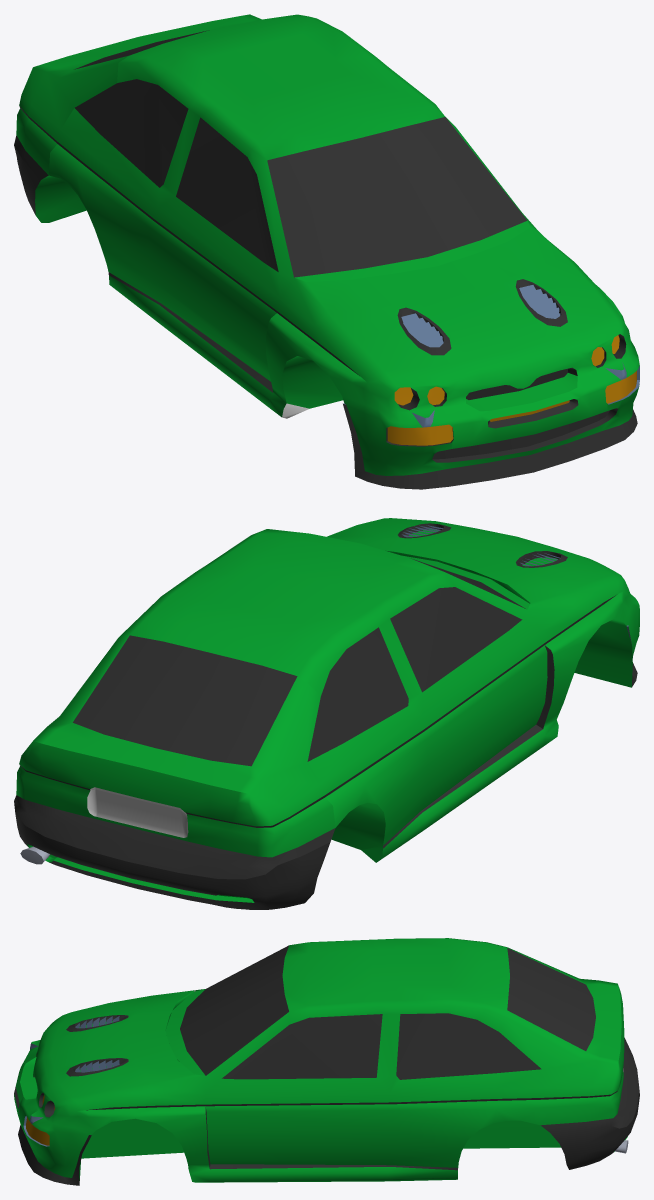
File: car_4.fbx
3 renders of one model, top to bottom at view 1: azimuth 30°, elevation 25°; view 2: azimuth 150°, elevation 25°; view 3: azimuth 270°, elevation 25°, orthographic. The views are drawn at different scales.
Parts seen in each view (by area): view 1: Ford Cosworth, Ford Cosworth.002; view 2: Ford Cosworth, Ford Cosworth.002; view 3: Ford Cosworth, Ford Cosworth.002.
Part boxes in pixels (box(x1,y1,x2,y2)): Ford Cosworth: box(14, 14, 639, 489); Ford Cosworth.002: box(74, 30, 527, 277); Ford Cosworth: box(14, 518, 639, 909); Ford Cosworth.002: box(73, 558, 525, 766); Ford Cosworth: box(14, 938, 639, 1185); Ford Cosworth.002: box(180, 945, 595, 1079).
Bounding box in the file's own units: 174 × 125 × 423.
